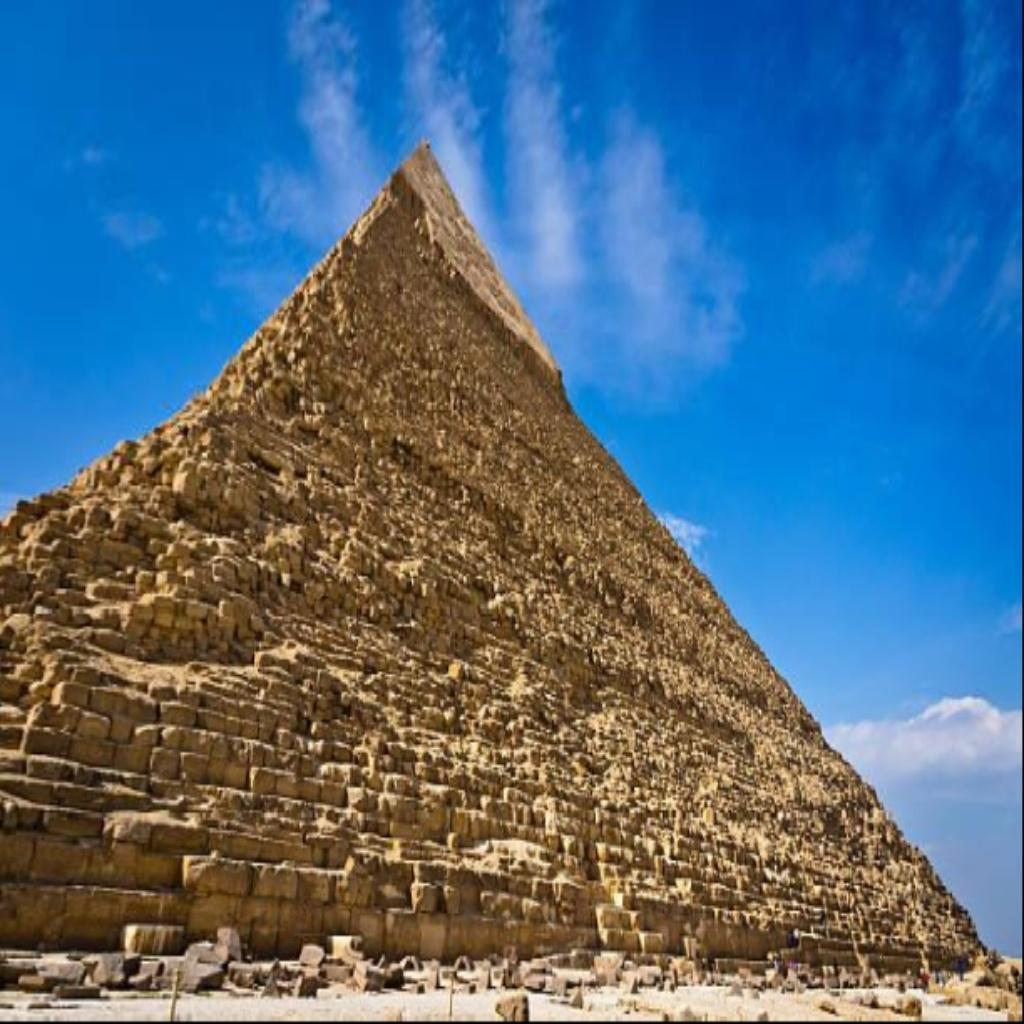Great Pyramids of Giza: (2, 128, 1000, 978)
